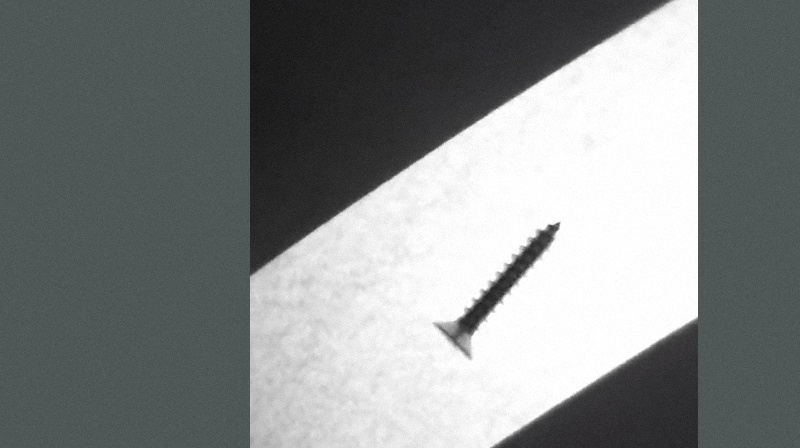S001: (427, 220, 562, 364)
